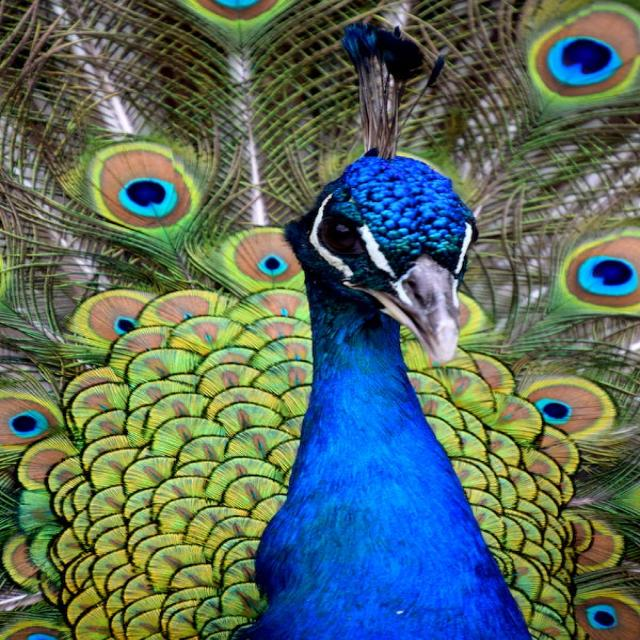peacock: (248, 23, 522, 640)
